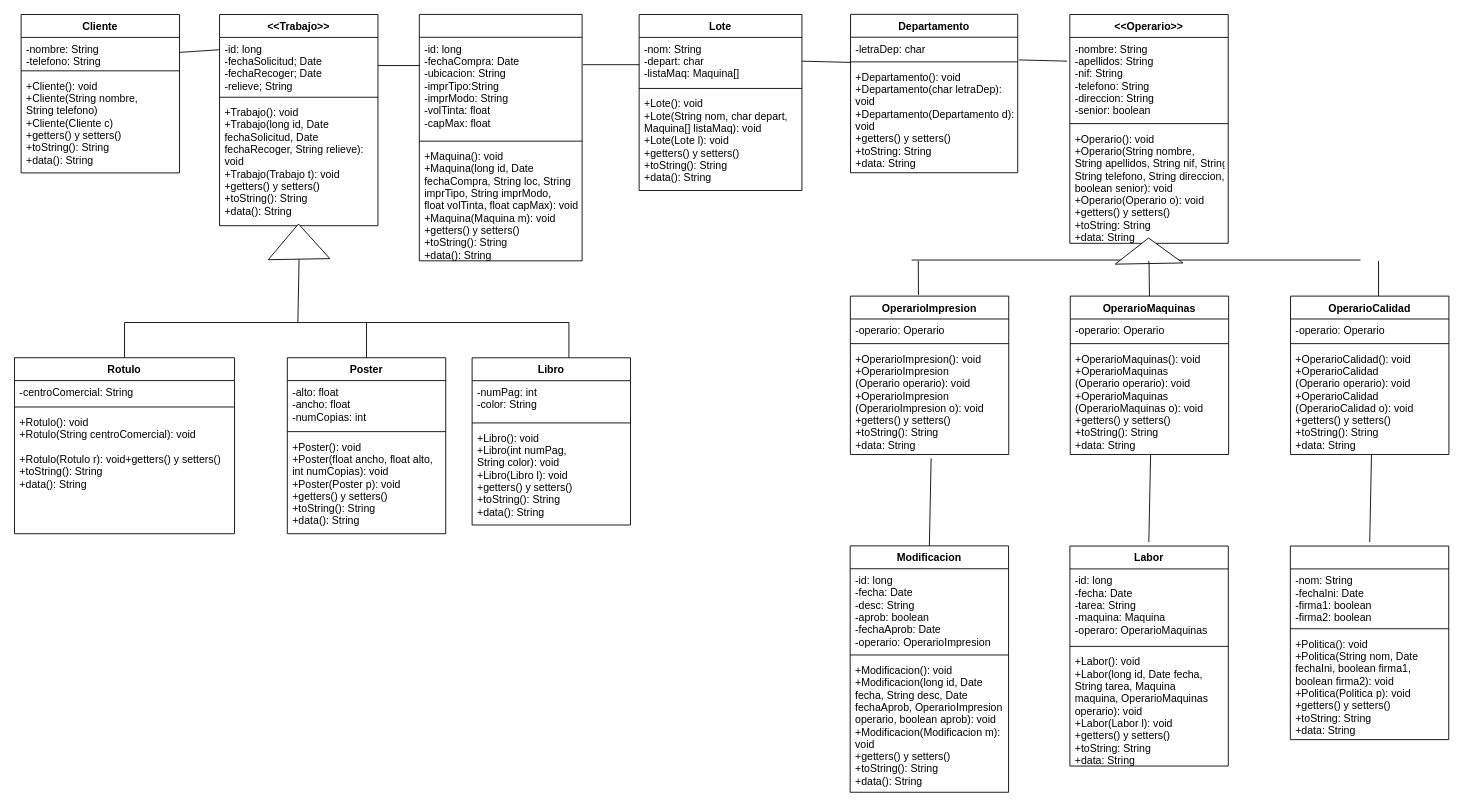
The diagram is 1463 pixels wide and 807 high, and some of its shapes have lost their labels. The box of each missing label's shape, as (x1, y1, x2, y2) in pixels:
Máquina: (418, 14, 582, 261)
PoliticaCalidad: (1289, 545, 1449, 740)
